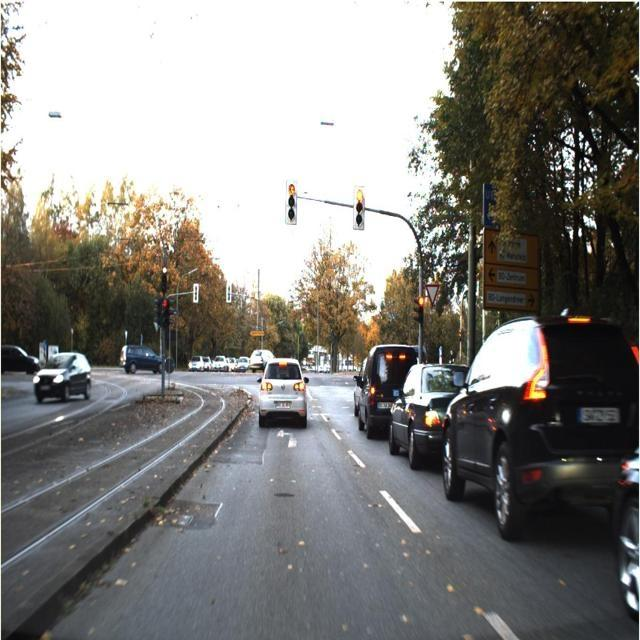prio_give_way: (424, 283, 440, 308)
